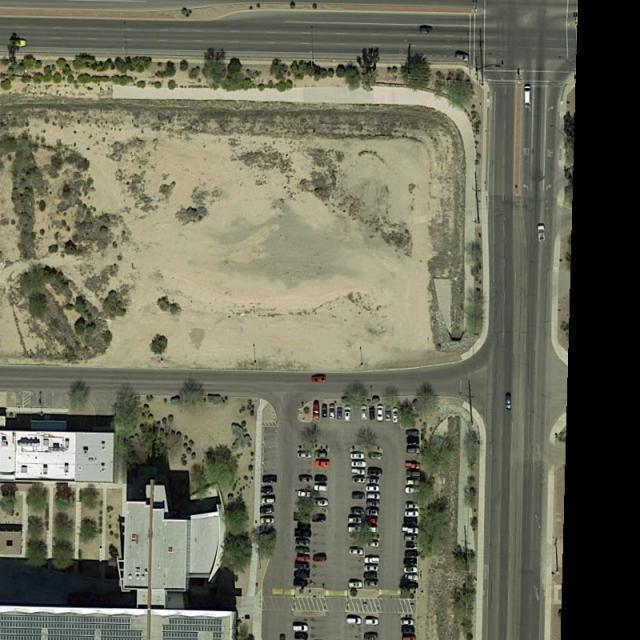vehicle: (523, 86, 532, 107), (403, 486, 422, 495), (402, 526, 419, 536), (366, 466, 384, 475), (366, 492, 382, 502), (505, 391, 513, 410), (538, 224, 546, 243), (260, 516, 275, 526), (10, 39, 28, 47), (294, 578, 310, 587), (344, 404, 352, 422), (260, 498, 278, 506), (393, 407, 401, 425), (362, 565, 380, 573), (404, 502, 420, 511), (292, 625, 309, 633), (294, 529, 311, 537), (401, 627, 418, 635), (362, 572, 379, 580), (351, 490, 366, 499), (298, 450, 313, 459), (404, 461, 419, 470), (314, 402, 321, 421), (403, 511, 422, 518), (418, 26, 434, 34), (346, 526, 362, 534), (310, 375, 326, 383), (361, 406, 369, 422), (259, 506, 275, 514), (296, 546, 312, 554), (403, 549, 419, 557), (406, 478, 422, 486), (406, 470, 422, 478), (330, 402, 337, 420), (294, 539, 312, 546), (400, 619, 418, 626), (457, 53, 472, 61), (369, 452, 384, 460), (346, 516, 361, 524), (262, 475, 277, 483), (314, 474, 329, 482), (313, 554, 328, 562), (405, 428, 420, 436), (346, 617, 363, 624), (369, 404, 376, 421), (402, 575, 419, 582), (350, 453, 366, 460), (366, 486, 382, 493), (350, 508, 366, 515), (365, 516, 379, 524), (385, 406, 392, 422), (322, 404, 330, 418), (260, 486, 274, 494), (363, 557, 379, 564), (349, 548, 363, 556), (406, 447, 422, 454), (294, 569, 312, 575), (366, 500, 381, 507), (363, 526, 378, 533), (296, 563, 311, 570), (294, 633, 309, 640), (363, 633, 378, 640), (364, 618, 379, 625), (313, 484, 328, 491), (347, 582, 362, 589), (403, 567, 418, 574), (403, 535, 418, 542), (315, 499, 328, 507), (378, 405, 384, 422), (298, 522, 312, 529), (406, 437, 420, 444), (314, 450, 326, 458), (294, 515, 310, 521), (402, 558, 418, 564), (336, 406, 342, 421), (315, 461, 330, 467), (298, 476, 313, 482), (313, 516, 328, 522), (351, 462, 368, 467), (352, 478, 366, 484), (366, 478, 380, 484), (366, 510, 380, 516), (297, 556, 311, 562), (364, 580, 378, 586), (402, 635, 418, 640), (297, 492, 310, 498), (368, 540, 379, 547), (352, 470, 366, 475), (278, 634, 286, 640)
